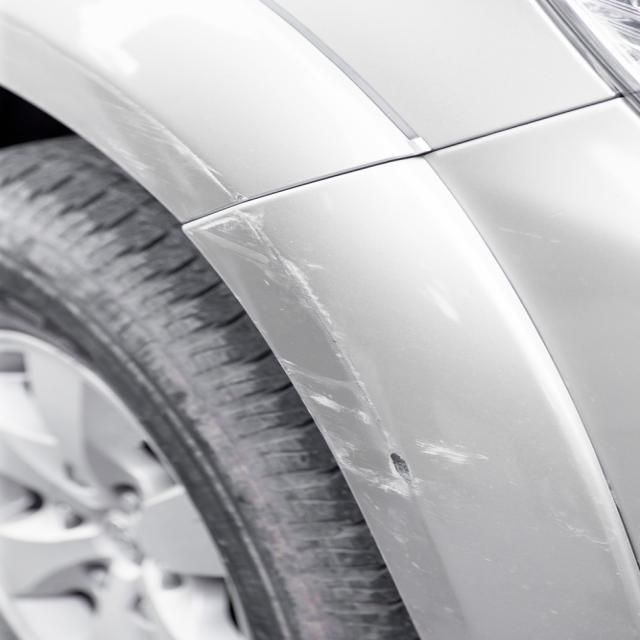scratch: (179, 206, 492, 495), (92, 98, 223, 190)
